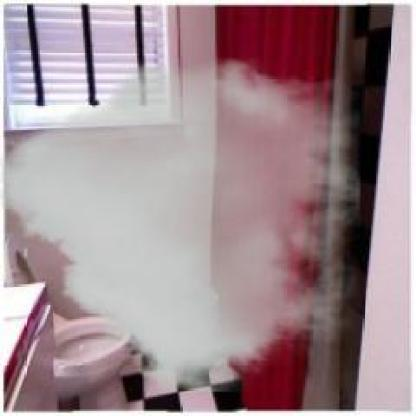Smoke: (0, 57, 361, 392)
